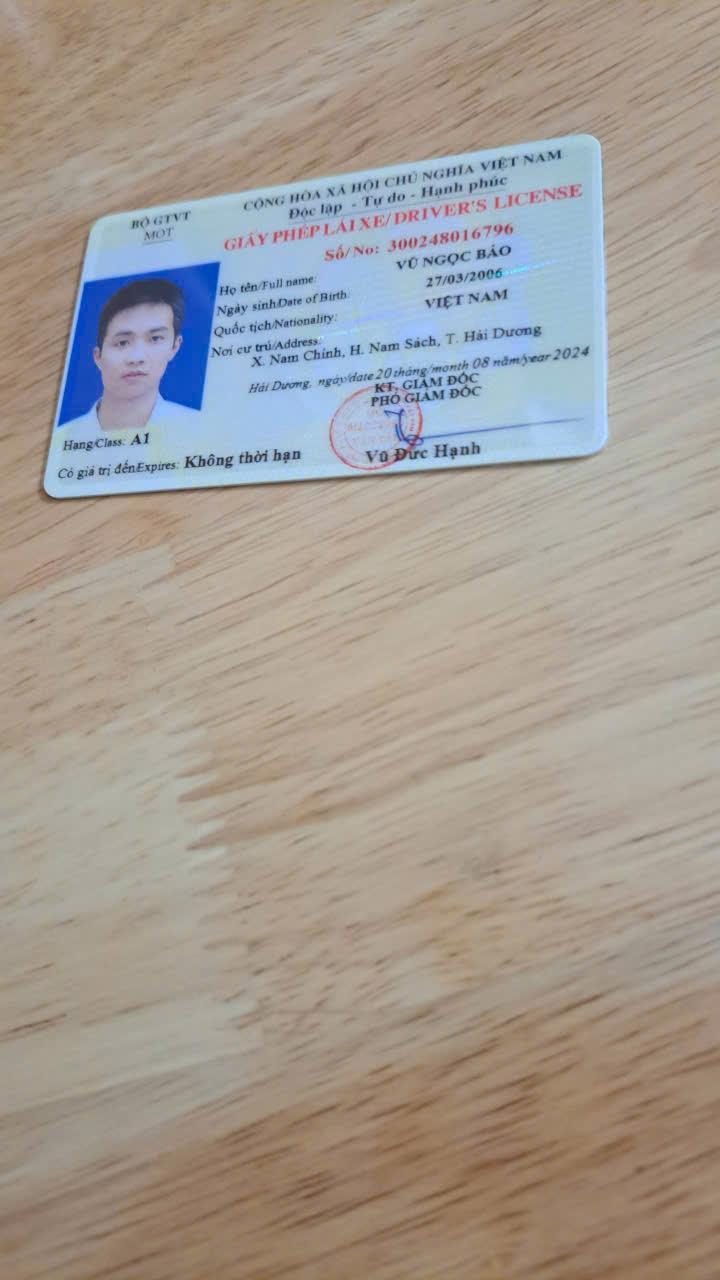gplx: (28, 121, 616, 510)
